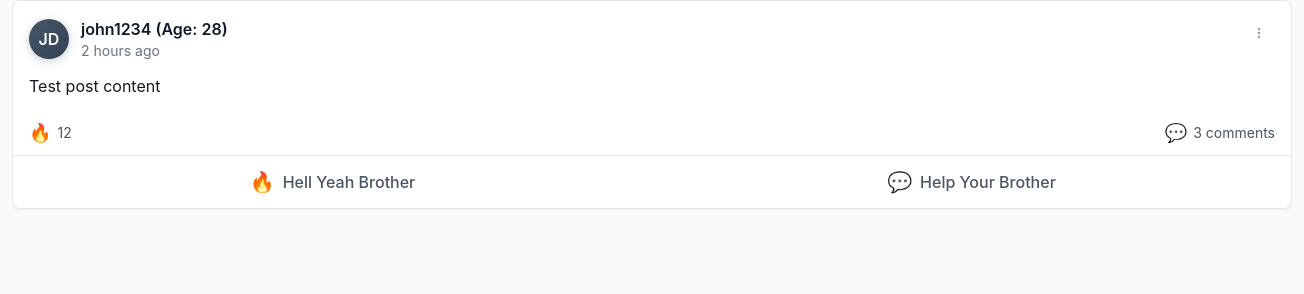
Test: Post Component › Comments Section › should show comments section when clicking comment button
This screenshot has width=1304, height=294.
Click the button labelled "💬 Help Your Brother": x=972, y=182 [652,160,1291,204]
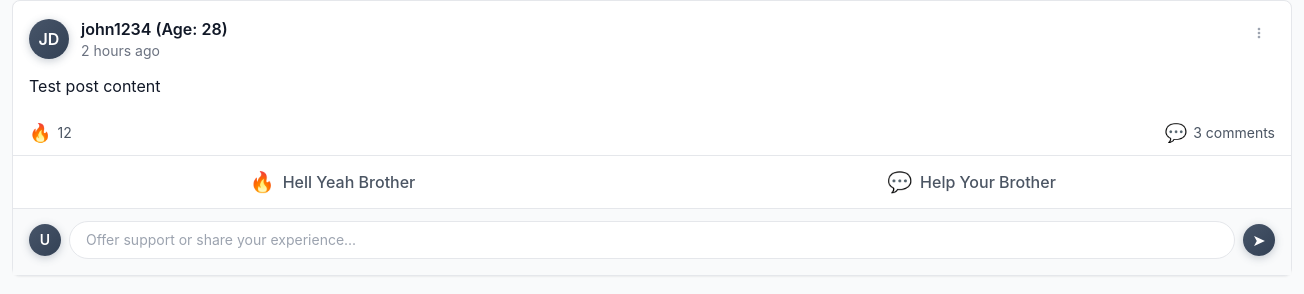
Result: the field named "write a comment" is shown at [69,221,1235,259]
